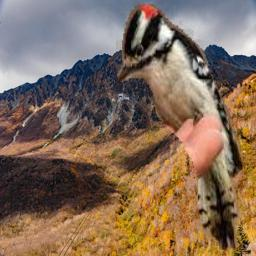Woodpecker: (116, 1, 243, 256)
